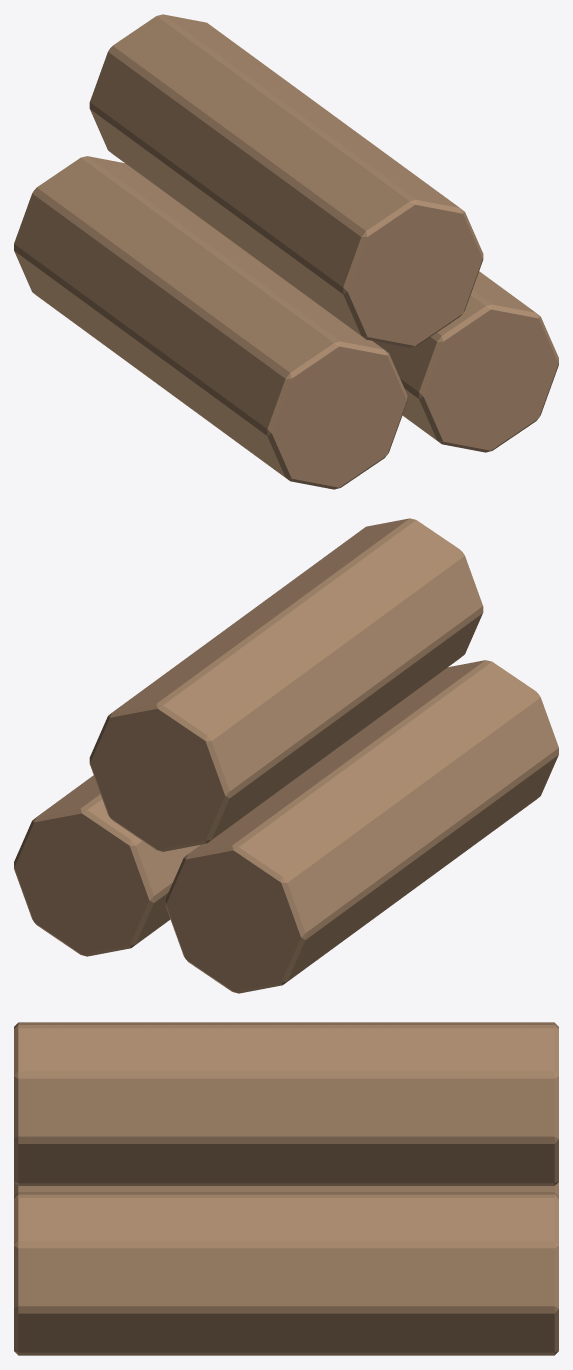
File: WoodModel.fbx
The picture shows the model from 3 angles, top to bottom: view 1: azimuth 30°, elevation 25°; view 2: azimuth 150°, elevation 25°; view 3: azimuth 270°, elevation 25°; orthographic projection. The views are drawn at different scales.
Visible parts, largest first — view 1: Log_03, Log_01, Log_02; view 2: Log_03, Log_01, Log_02; view 3: Log_02, Log_03, Log_01.
Boxes of the visible parts, bbox=[...] form: Log_03: bbox=[89, 14, 483, 347]; Log_01: bbox=[14, 156, 407, 489]; Log_02: bbox=[373, 271, 558, 452]; Log_03: bbox=[89, 518, 483, 851]; Log_01: bbox=[165, 660, 558, 993]; Log_02: bbox=[14, 775, 199, 956]; Log_02: bbox=[14, 1192, 558, 1355]; Log_03: bbox=[14, 1022, 558, 1185]; Log_01: bbox=[14, 1182, 558, 1195].
Bounding box in the file's own units: 163 × 144 × 250.
